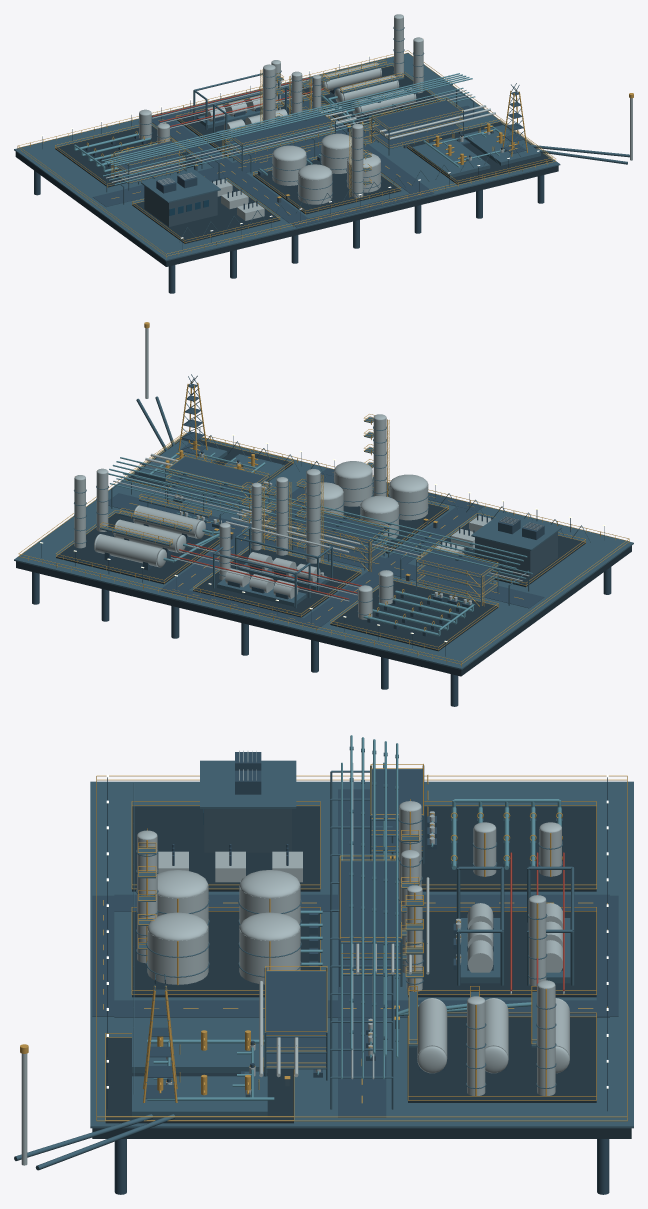
Rendered from campus.glb.
3 views of the same model, one above another, from view 1: azimuth 30°, elevation 25°; view 2: azimuth 150°, elevation 25°; view 3: azimuth 270°, elevation 25° (orthographic). The views are drawn at different scales.
Visible parts, largest first — view 1: Plant equipment (×52); view 2: Plant equipment (×45); view 3: Plant equipment (×62).
Boxes of the visible parts, box(x1,y1,x2,y2) form: Plant equipment (×52): box(14, 17, 560, 266); Plant equipment (×45): box(14, 417, 633, 676); Plant equipment (×62): box(14, 735, 633, 1194).
Size of the model in its own units: 213 by 55.83 by 141.
